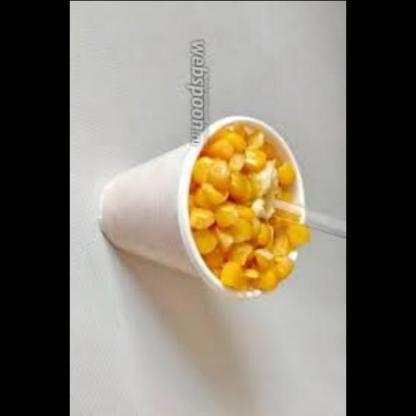corn: (192, 132, 307, 280)
